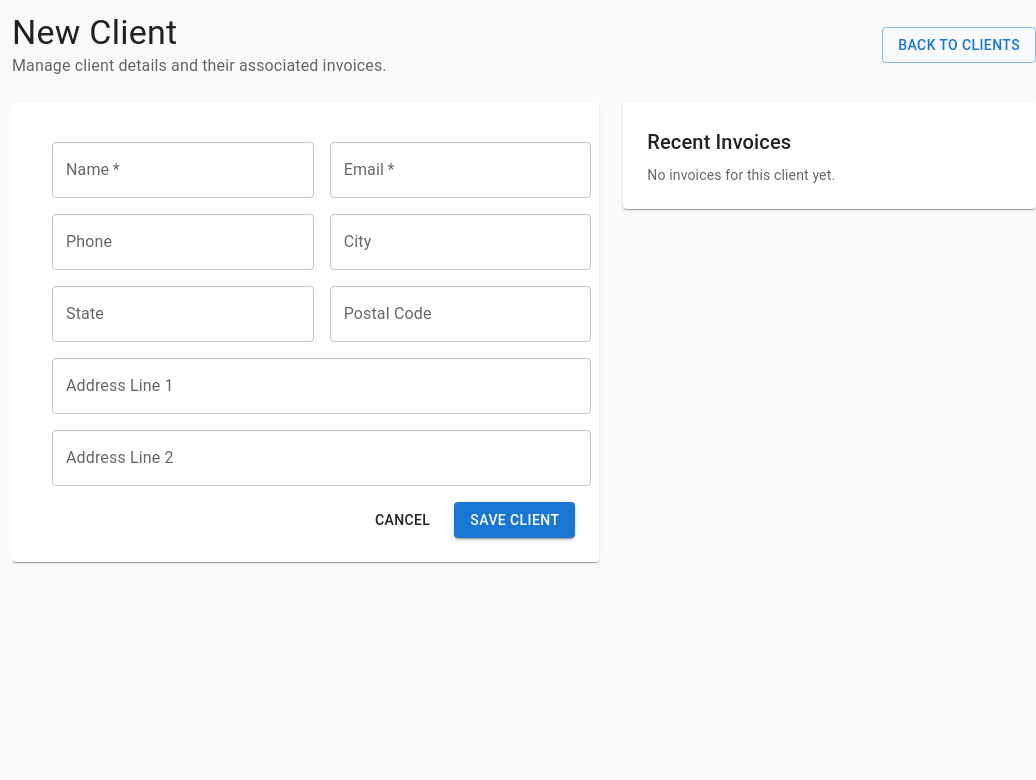
Test: ClientFormPage › creates a new client and navigates to the detail page
The image size is (1036, 780).
Type "Acme Corp" into the field labelled "Name *" at (183, 170), box 52,142 -> 314,198
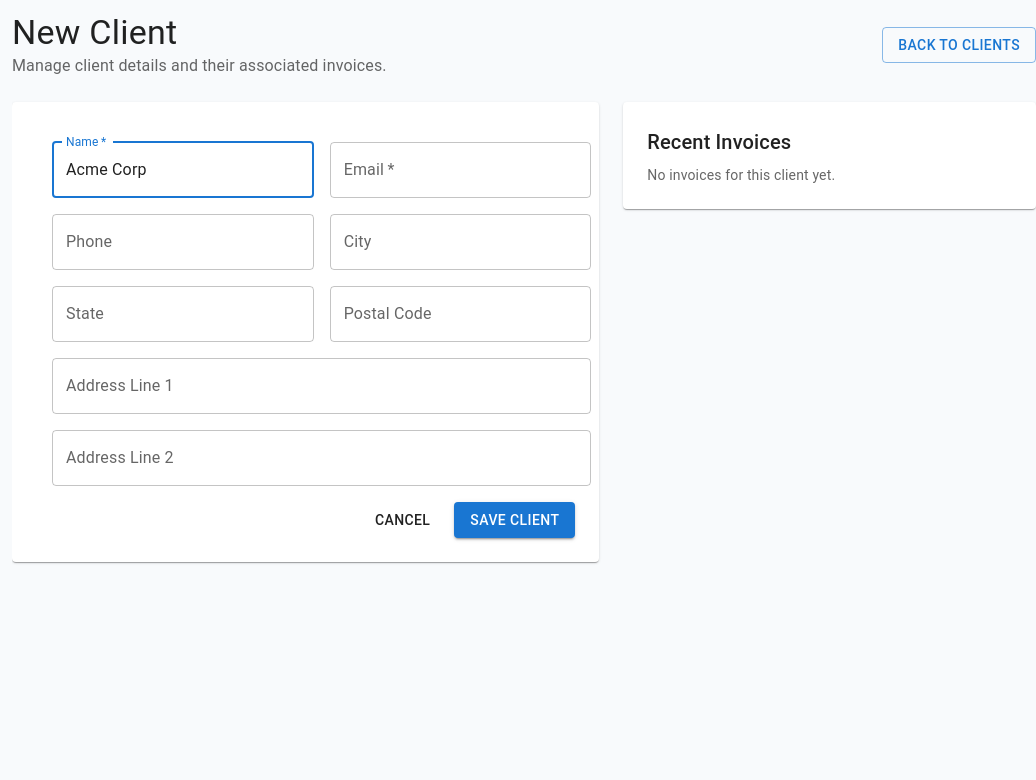
Type "hello@acme.com" into the field labelled "Email *" at (461, 170), box 330,142 -> 591,198
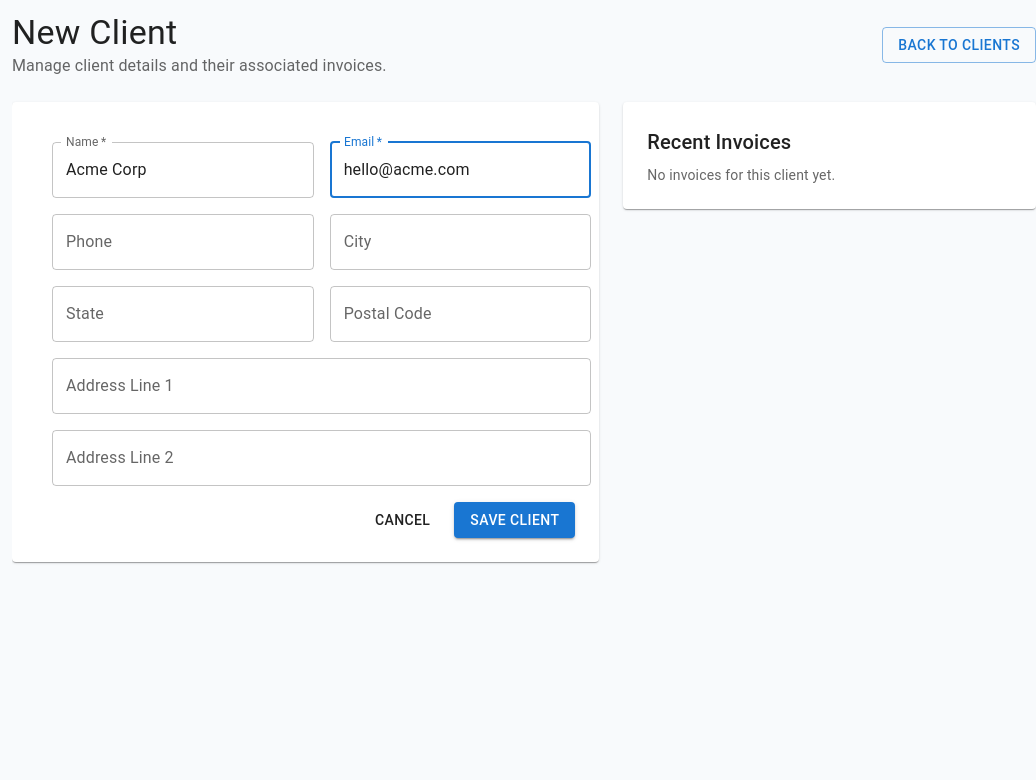
Click the button "Save Client" at (515, 520), box 454,502 -> 575,538
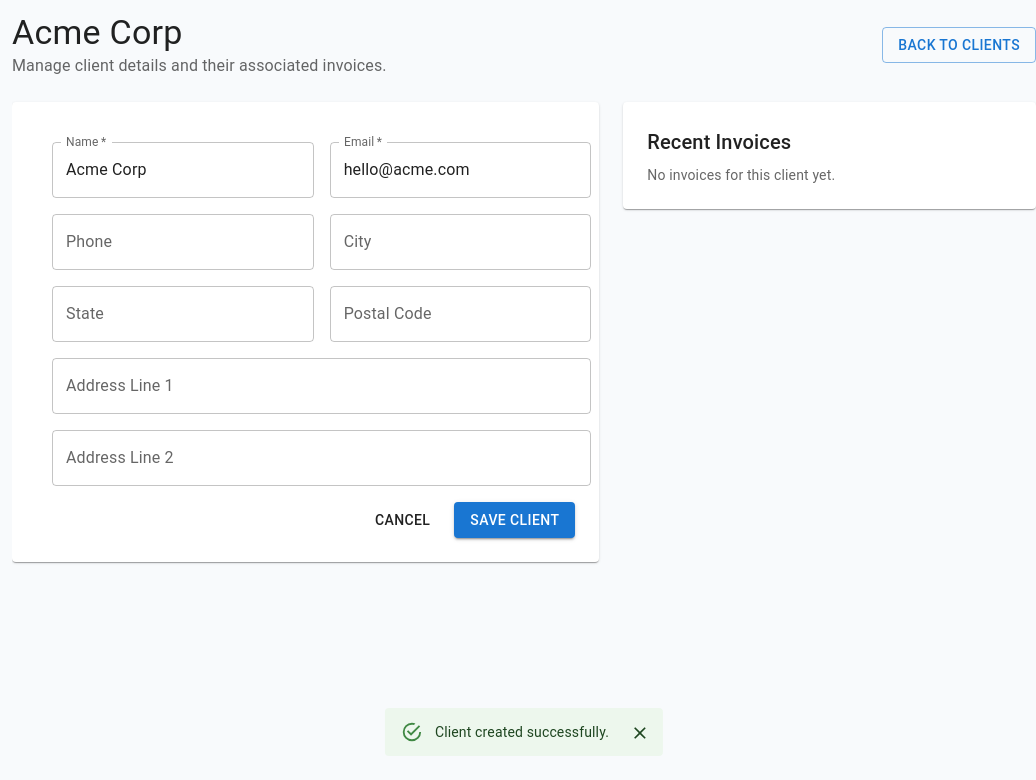
Now the text "Client created successfully." is shown, box 435,724 -> 609,740
